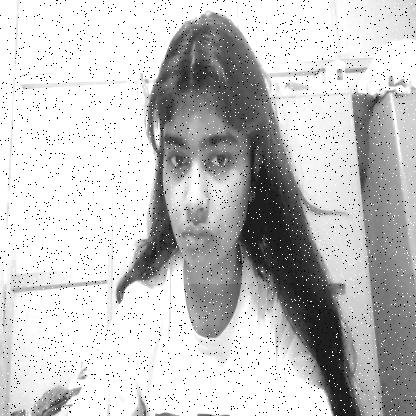Normal: (149, 18, 270, 284)
